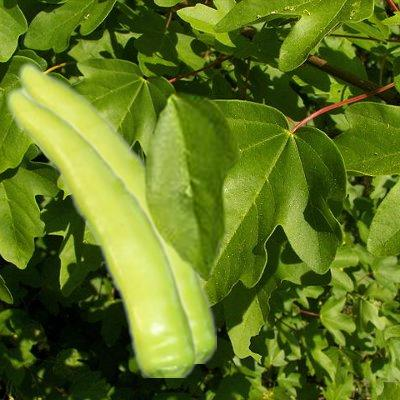green_chili: (18, 60, 215, 362), (6, 86, 195, 376)
